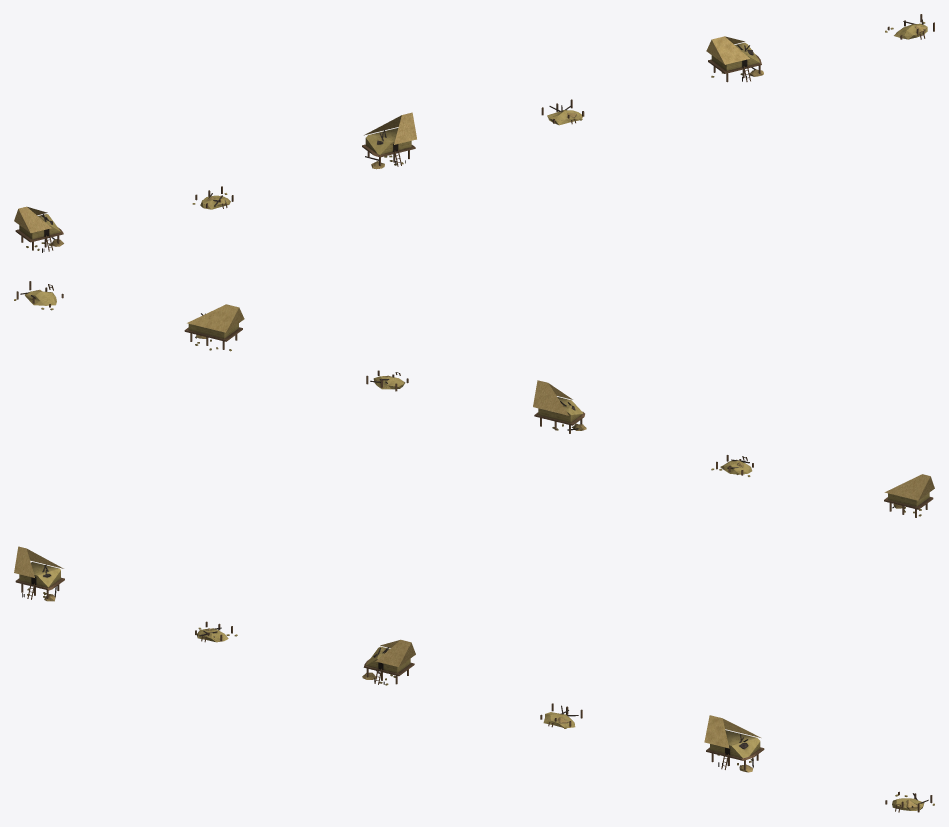
Rendered from stone-monsoon-houses-damage.glb.
3 renders of one model, top to bottom at view 1: azimuth 30°, elevation 25°; view 2: azimuth 150°, elevation 25°; view 3: azimuth 330°, elevation 25°, orthographic.
Visible parts, largest first — view 1: LOD0.002, LOD0.004, LOD0, LOD0.003, LOD0.005; view 2: LOD0.002, LOD0.004, LOD0, LOD0.005; view 3: LOD0.004, LOD0, LOD0.002.
Boxes of the visible parts, left/top/right/bottom form: LOD0.002: left=362, top=112, right=416, bottom=169; LOD0.004: left=706, top=36, right=763, bottom=82; LOD0: left=14, top=206, right=63, bottom=252; LOD0.003: left=541, top=99, right=584, bottom=125; LOD0.005: left=885, top=14, right=934, bottom=39; LOD0.002: left=533, top=380, right=586, bottom=433; LOD0.004: left=184, top=304, right=244, bottom=351; LOD0: left=884, top=474, right=934, bottom=517; LOD0.005: left=14, top=281, right=63, bottom=310; LOD0.004: left=704, top=715, right=764, bottom=772; LOD0: left=14, top=546, right=64, bottom=601; LOD0.002: left=362, top=639, right=415, bottom=685.
Size of what is drawn, in the model's own units: 15.72 by 0.687 by 0.6355.
1 material, 1 textured.
